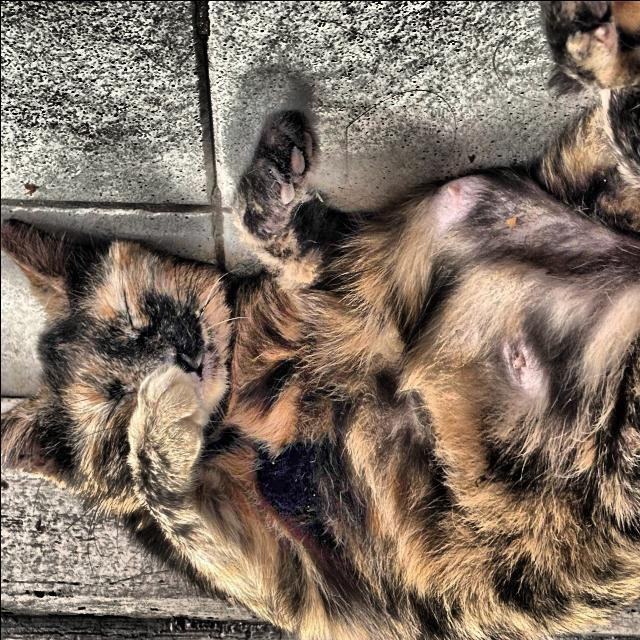Healthy skin: (402, 254, 586, 568), (148, 336, 294, 548), (228, 116, 346, 300)
